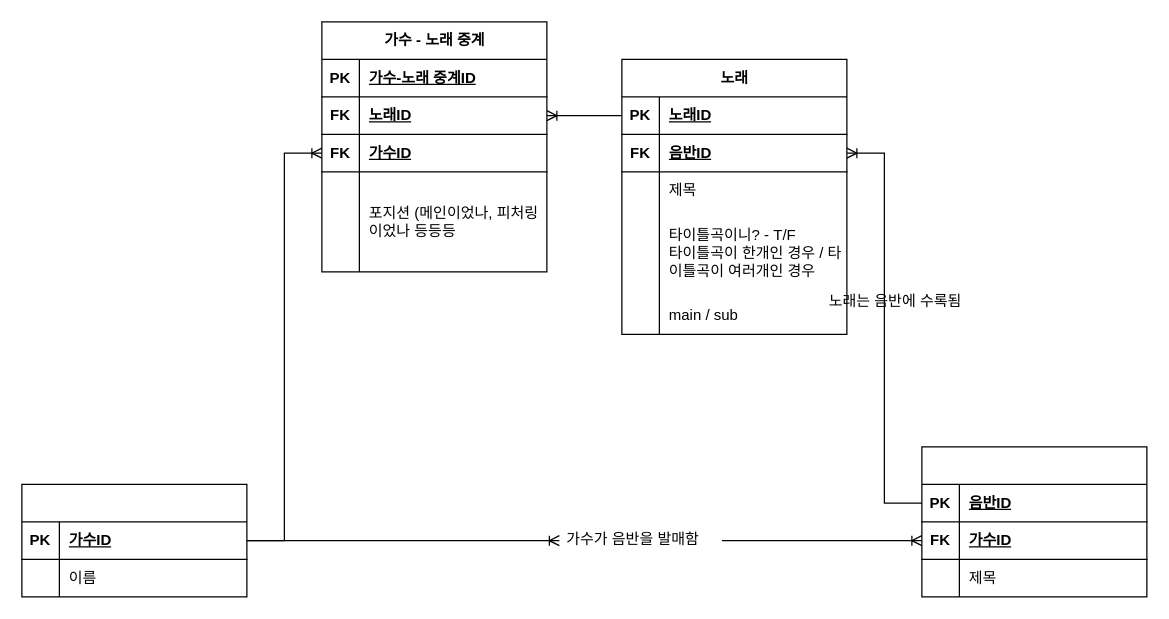
The diagram is 1169 pixels wide and 619 high, and some of its shapes have lost their labels. The box of each missing label's shape, as (x1, y1, x2, y2) in pixels:
가수: (21, 483, 247, 597)
음반: (921, 446, 1147, 597)
